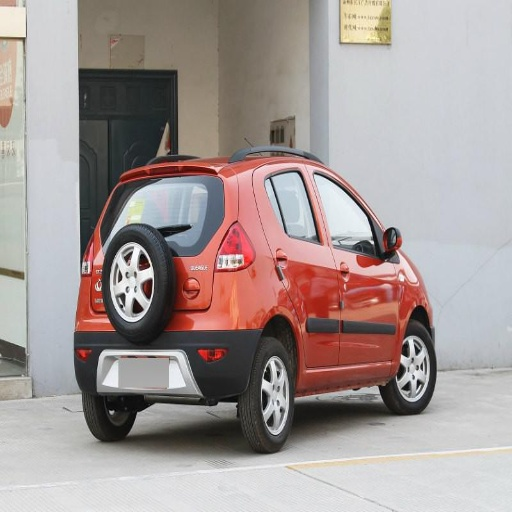back_bumper: (92, 273, 259, 400)
back_right_door: (257, 164, 339, 368)
trunk: (169, 224, 216, 311)
